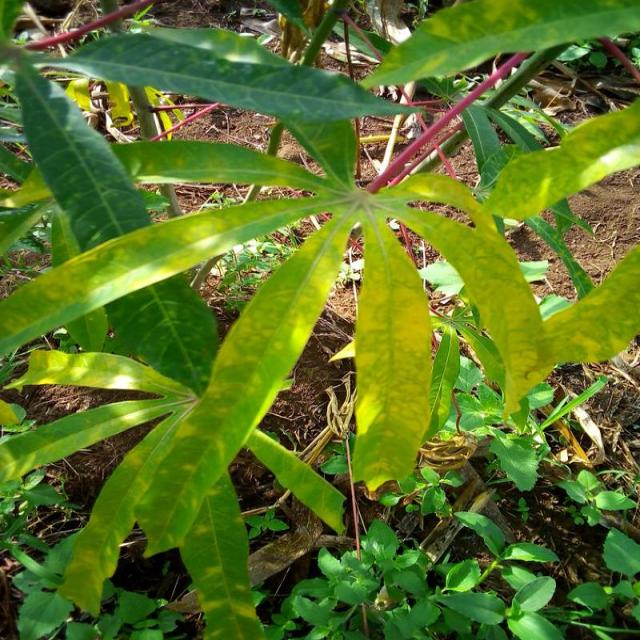cassava leaf: (2, 2, 639, 637), (352, 207, 434, 494)
